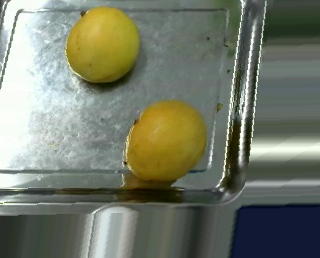Mango: (125, 102, 208, 184), (64, 6, 141, 85)
